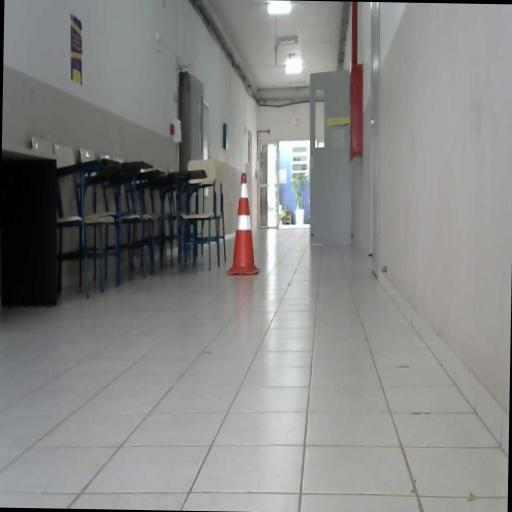cone: (228, 172, 261, 276)
